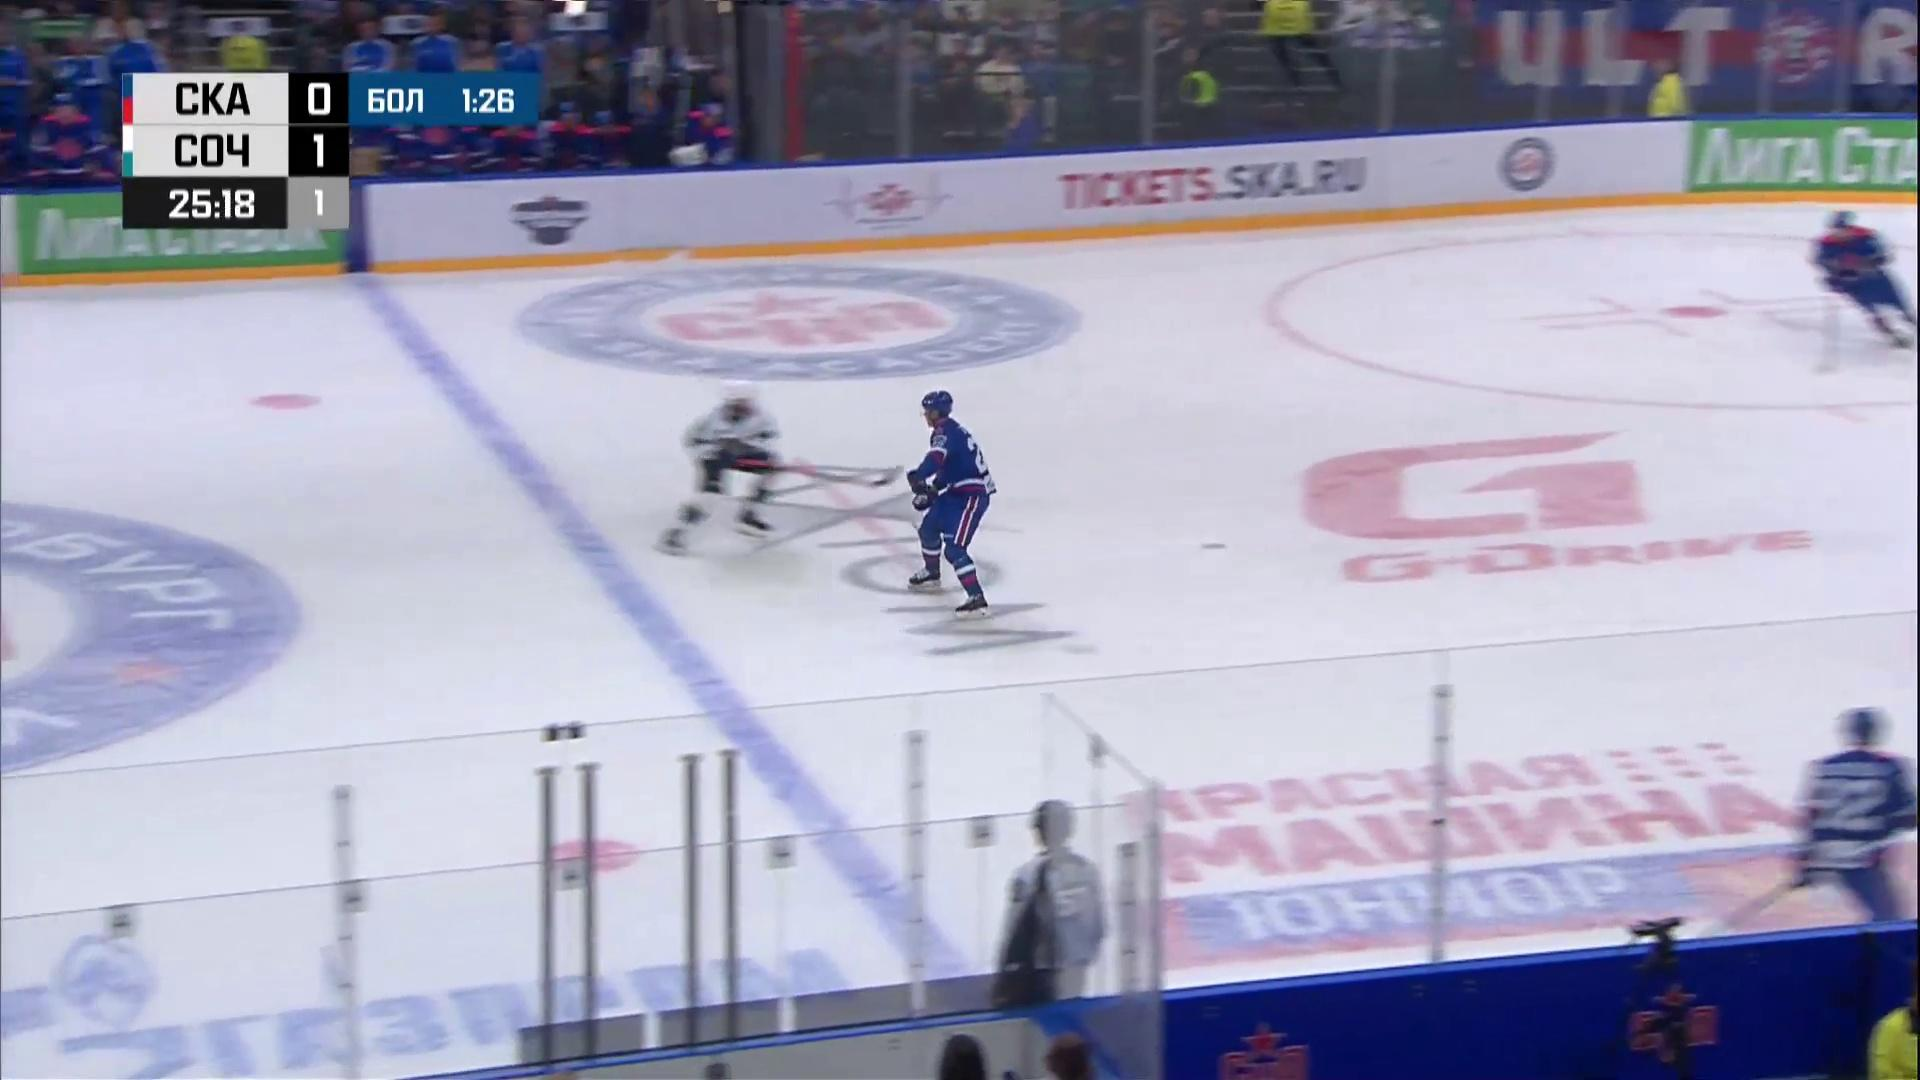ball: (1201, 543, 1225, 549)
